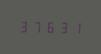one: (70, 20, 82, 34)
seven: (31, 19, 43, 33)
six: (44, 19, 56, 34)
three: (18, 19, 30, 33), (57, 20, 69, 34)
